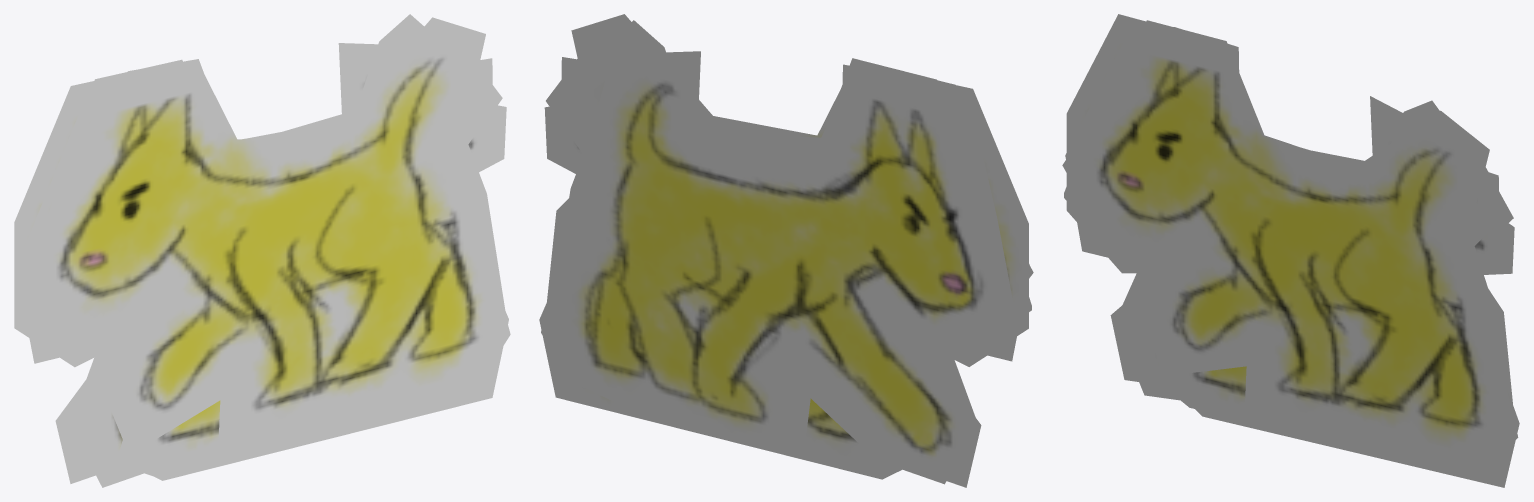
File: HundWalk.fbx
The picture shows the model from 3 angles, left to right: view 1: azimuth 30°, elevation 25°; view 2: azimuth 150°, elevation 25°; view 3: azimuth 330°, elevation 25°; orthographic projection. The views are drawn at different scales.
Parts seen in each view (by area): view 1: HundWalk6, HundWalk5, HundWalk4, HundWalk3, HundWalk1, HundWalk2; view 2: HundWalk1, HundWalk2, HundWalk3, HundWalk4, HundWalk6, HundWalk5; view 3: HundWalk6, HundWalk5, HundWalk4, HundWalk3, HundWalk1, HundWalk2.
Part boxes in pixels (x1=…): HundWalk6: x1=19, y1=17, x2=507, y2=455; HundWalk5: x1=17, y1=58, x2=493, y2=476; HundWalk4: x1=16, y1=62, x2=510, y2=487; HundWalk3: x1=14, y1=65, x2=508, y2=480; HundWalk1: x1=55, y1=43, x2=377, y2=483; HundWalk2: x1=123, y1=14, x2=423, y2=139; HundWalk1: x1=550, y1=51, x2=1011, y2=487; HundWalk2: x1=544, y1=20, x2=1015, y2=468; HundWalk3: x1=539, y1=51, x2=1028, y2=479; HundWalk4: x1=541, y1=62, x2=1030, y2=484; HundWalk6: x1=569, y1=14, x2=1033, y2=278; HundWalk5: x1=561, y1=57, x2=1031, y2=311; HundWalk6: x1=1062, y1=33, x2=1509, y2=465; HundWalk5: x1=1064, y1=27, x2=1499, y2=471; HundWalk4: x1=1065, y1=21, x2=1518, y2=480; HundWalk3: x1=1066, y1=14, x2=1519, y2=487; HundWalk1: x1=1110, y1=20, x2=1403, y2=381; HundWalk2: x1=1170, y1=27, x2=1512, y2=403.
Bounding box in the file's own units: 349 × 282 × 10.04.
